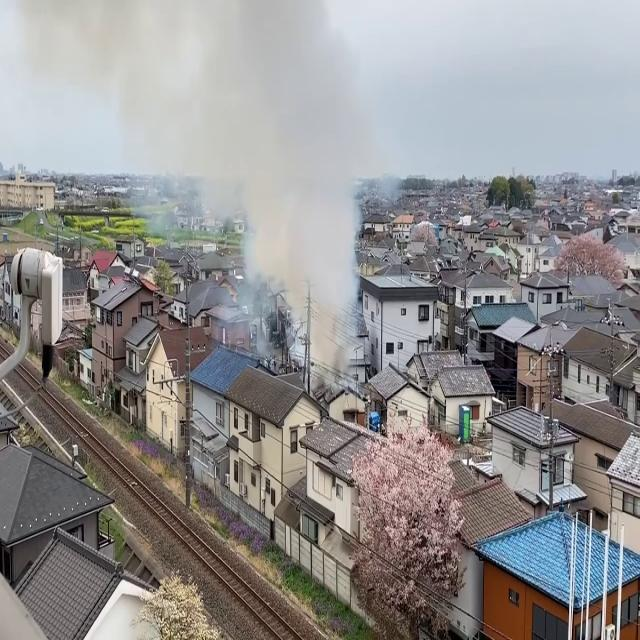Smoke: (210, 4, 380, 380)
